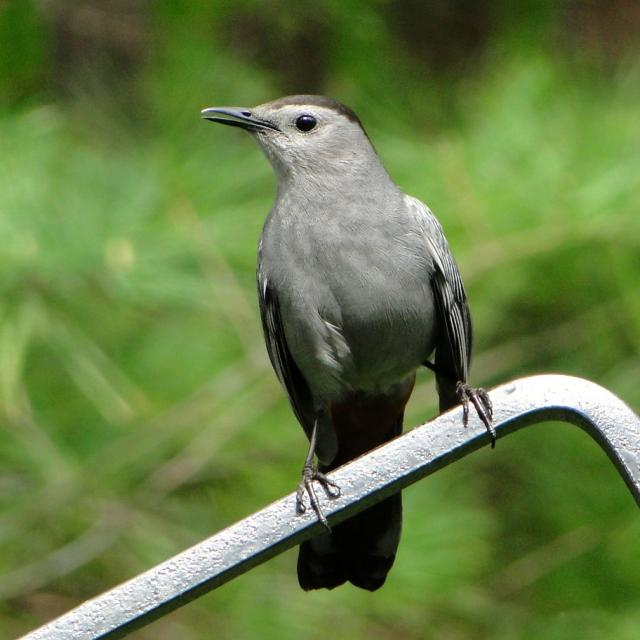bird: (185, 89, 498, 590)
